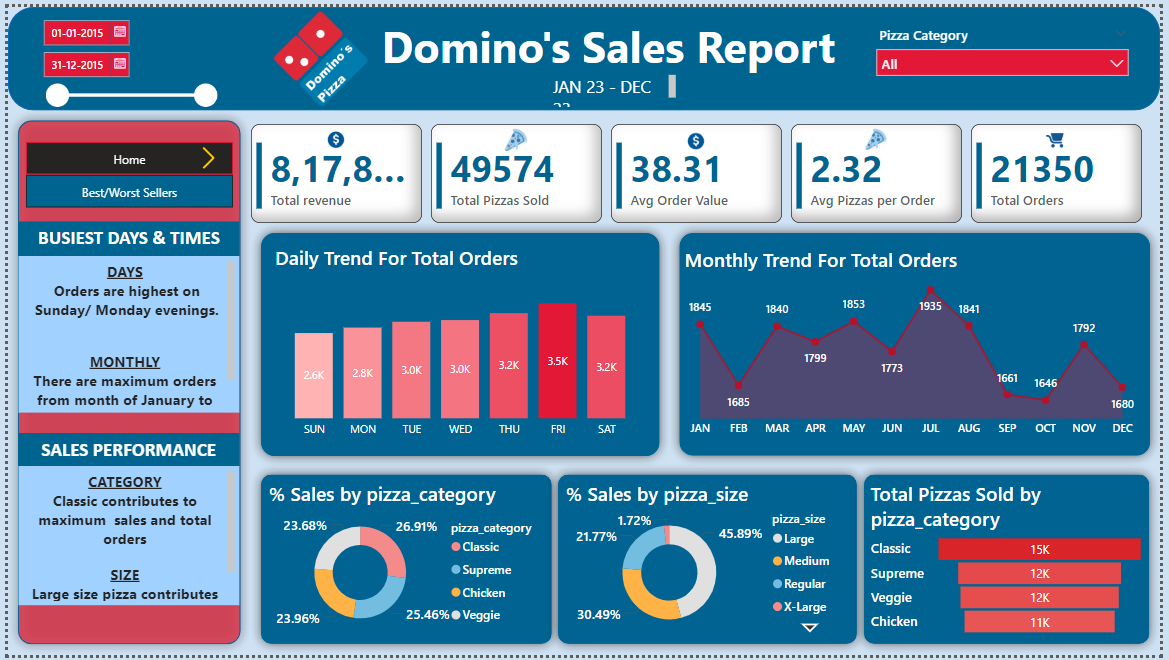

Layout of this report page (visuals, bound fields, positions):
{"tool":"powerbi","page":{"name":"Home","canvas":[1280,720],"ordinal":0},"visuals":[{"type":"actionButton","box":[0,0,100,40],"z":0},{"type":"multiRowCard","fields":{"Values":["pizza_sales.Total Pizzas Sold"]},"box":[470,130,190,110],"z":1000},{"type":"multiRowCard","fields":{"Values":["pizza_sales.Total Orders"]},"box":[1070,130,190,110],"z":2000},{"type":"multiRowCard","fields":{"Values":["pizza_sales.Avg Pizzas per Order"]},"box":[870,130,190,110],"z":3000},{"type":"multiRowCard","fields":{"Values":["pizza_sales.Avg Order Value"]},"box":[670,130,190,110],"z":4000},{"type":"multiRowCard","fields":{"Values":["pizza_sales.Total revenue"]},"box":[270,130,190,110],"z":5000},{"type":"image","box":[343.3,130,41.7,35],"z":6000},{"type":"image","box":[1138.3,130,51.7,35],"z":7000},{"type":"image","box":[543.3,130,41.7,35],"z":8000},{"type":"image","box":[733.3,131.7,61.7,35],"z":9000},{"type":"image","box":[940,130,48.3,33.3],"z":10000},{"type":"shape","box":[0,0,1280,115],"z":11000},{"type":"textbox","box":[410,5,525,86.7],"z":12000},{"type":"image","box":[285,0,125,115],"z":13000},{"type":"textbox","box":[599.6,69.7,146.9,45.4],"z":14000},{"type":"shape","box":[270,240,465,270],"z":15000},{"type":"shape","box":[0,115.1,269.5,604.2],"z":16000},{"type":"columnChart","title":"Daily Trend For Total Orders","fields":{"Category":["pizza_sales.Order Day"],"Y":["pizza_sales.Total Orders"]},"box":[291.7,263.3,421.7,223.3],"z":17000},{"type":"shape","box":[734.4,240.8,545.1,269.5],"z":18000},{"type":"areaChart","title":"Monthly Trend For Total Orders","fields":{"Category":["pizza_sales.Order Month"],"Y":["pizza_sales.Total Orders"]},"box":[746.5,265,513.3,221.1],"z":19000},{"type":"shape","box":[269.5,508.8,345.2,210.5],"z":20000},{"type":"shape","box":[599.6,508.8,354.3,210.5],"z":21000},{"type":"shape","box":[940.3,508.8,339.2,210.5],"z":22000},{"type":"donutChart","title":"% Sales by pizza_category","fields":{"Category":["pizza_sales.pizza_category"],"Y":["pizza_sales.Total revenue"]},"box":[284.7,525.4,315,177.2],"z":23000},{"type":"donutChart","title":"% Sales by pizza_size","fields":{"Y":["pizza_sales.Total revenue"],"Category":["pizza_sales.pizza_size"]},"box":[614.8,525.4,321,177.2],"z":24000},{"type":"funnel","fields":{"Category":["pizza_sales.pizza_category"],"Y":["pizza_sales.Total Pizzas Sold"]},"box":[953.9,525.4,315,177.2],"z":25000},{"type":"textbox","box":[12.1,237.7,245.3,39.4],"z":26000},{"type":"textbox","box":[12.1,277.1,245.3,174.1],"z":27000},{"type":"textbox","box":[12.1,473.9,245.3,36.3],"z":28000},{"type":"textbox","box":[12.1,510.3,245.3,154.4],"z":29000},{"type":"slicer","fields":{"Values":["pizza_sales.pizza_category"]},"box":[954.3,15.7,300,300],"z":30000},{"type":"slicer","fields":{"Values":["pizza_sales.order_date"]},"box":[27.1,5.7,214.3,110],"z":31000},{"type":"pageNavigator","box":[20,150,230,36.7],"z":32000},{"type":"pageNavigator","box":[20,186.7,230,36.7],"z":33000},{"type":"image","box":[202.9,149.9,39.4,34.8],"z":34000}]}

Visuals, with their boxes in screenshot pixels (x1, y1, x2, y2), scaled from the page's 1280x720 canvas onto the 1169x660 screenshot:
actionButton: [x1=0, y1=0, x2=91, y2=37]
multiRowCard - pizza_sales.Total Pizzas Sold: [x1=429, y1=119, x2=603, y2=220]
multiRowCard - pizza_sales.Total Orders: [x1=977, y1=119, x2=1151, y2=220]
multiRowCard - pizza_sales.Avg Pizzas per Order: [x1=795, y1=119, x2=968, y2=220]
multiRowCard - pizza_sales.Avg Order Value: [x1=612, y1=119, x2=785, y2=220]
multiRowCard - pizza_sales.Total revenue: [x1=247, y1=119, x2=420, y2=220]
image: [x1=314, y1=119, x2=352, y2=151]
image: [x1=1040, y1=119, x2=1087, y2=151]
image: [x1=496, y1=119, x2=534, y2=151]
image: [x1=670, y1=121, x2=726, y2=153]
image: [x1=858, y1=119, x2=903, y2=150]
shape: [x1=0, y1=0, x2=1168, y2=105]
textbox: [x1=374, y1=5, x2=854, y2=84]
image: [x1=260, y1=0, x2=374, y2=105]
textbox: [x1=548, y1=64, x2=682, y2=106]
shape: [x1=247, y1=220, x2=671, y2=468]
shape: [x1=0, y1=106, x2=246, y2=659]
"Daily Trend For Total Orders" columnChart: [x1=266, y1=241, x2=652, y2=446]
shape: [x1=671, y1=221, x2=1168, y2=468]
"Monthly Trend For Total Orders" areaChart: [x1=682, y1=243, x2=1151, y2=446]
shape: [x1=246, y1=466, x2=561, y2=659]
shape: [x1=548, y1=466, x2=871, y2=659]
shape: [x1=859, y1=466, x2=1168, y2=659]
"% Sales by pizza_category" donutChart: [x1=260, y1=482, x2=548, y2=644]
"% Sales by pizza_size" donutChart: [x1=561, y1=482, x2=855, y2=644]
funnel - pizza_sales.pizza_category x pizza_sales.Total Pizzas Sold: [x1=871, y1=482, x2=1159, y2=644]
textbox: [x1=11, y1=218, x2=235, y2=254]
textbox: [x1=11, y1=254, x2=235, y2=414]
textbox: [x1=11, y1=434, x2=235, y2=468]
textbox: [x1=11, y1=468, x2=235, y2=609]
slicer - pizza_sales.pizza_category: [x1=872, y1=14, x2=1146, y2=289]
slicer - pizza_sales.order_date: [x1=25, y1=5, x2=220, y2=106]
pageNavigator: [x1=18, y1=138, x2=228, y2=171]
pageNavigator: [x1=18, y1=171, x2=228, y2=205]
image: [x1=185, y1=137, x2=221, y2=169]
